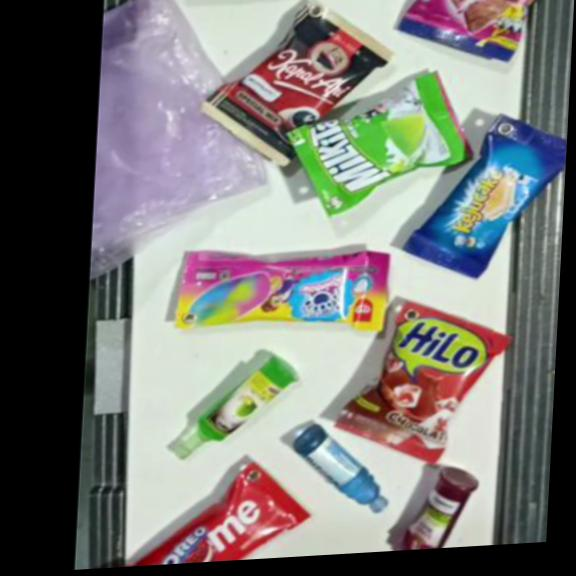Plastik: (91, 0, 278, 279), (197, 0, 394, 173), (332, 294, 516, 472), (281, 68, 478, 220), (399, 111, 568, 287), (174, 240, 390, 345), (130, 458, 314, 567), (173, 351, 300, 458), (394, 0, 555, 68), (291, 419, 393, 517), (399, 464, 477, 551)
